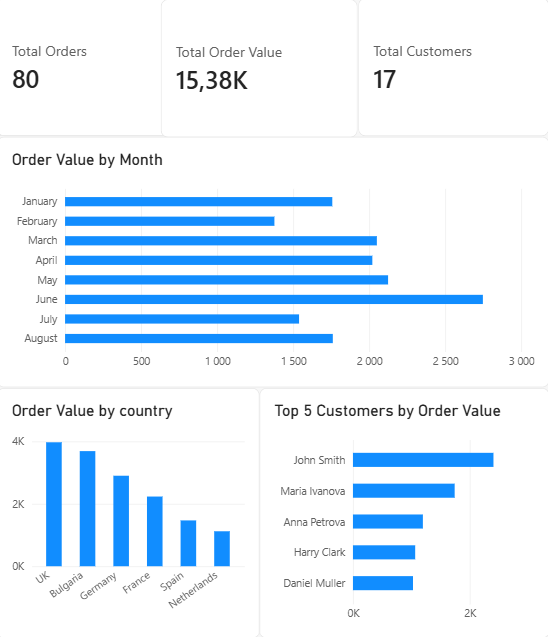

What the dashboard file says about the page in this screenshot:
{"tool":"powerbi","page":{"name":"Page 1","canvas":[1920,1080],"ordinal":0},"visuals":[{"type":"cardVisual","fields":{"Data":["CountNonNull(public orders.order_id)"]},"box":[0,0,198.8,158.8],"z":0},{"type":"cardVisual","fields":{"Data":["Sum(public orders.amount)"]},"box":[187.5,1.2,225,158.8],"z":1},{"type":"clusteredBarChart","title":"Order Value by Month","fields":{"Category":["public orders.order_date.Variation.Date Hierarchy.Month"],"Y":["Sum(public orders.amount)"]},"box":[0,158.8,631.2,286.2],"z":2},{"type":"clusteredColumnChart","title":"Order Value by country","fields":{"Category":["public customers.country"],"Y":["Sum(public orders.amount)"]},"box":[0,445,300,287.5],"z":3},{"type":"clusteredBarChart","title":"Top 5 Customers by Order Value","fields":{"Category":["public customers.Customer Name"],"Y":["Sum(public orders.amount)"]},"box":[300,445,331.2,287.5],"z":4},{"type":"cardVisual","fields":{"Data":["public customers.Total Customers"]},"box":[412.5,0,218.8,158.8],"z":5}]}

Visuals, with their boxes on the page's 1920x1080 design canvas (x1, y1, x2, y2). These are canvas units, not pixel positions in the 548x637 screenshot, which may show the page scaled, cropped or inside an application window:
cardVisual - CountNonNull(public orders.order_id): 0/0/199/159
cardVisual - Sum(public orders.amount): 188/1/412/160
"Order Value by Month" clusteredBarChart: 0/159/631/445
"Order Value by country" clusteredColumnChart: 0/445/300/732
"Top 5 Customers by Order Value" clusteredBarChart: 300/445/631/732
cardVisual - public customers.Total Customers: 412/0/631/159
